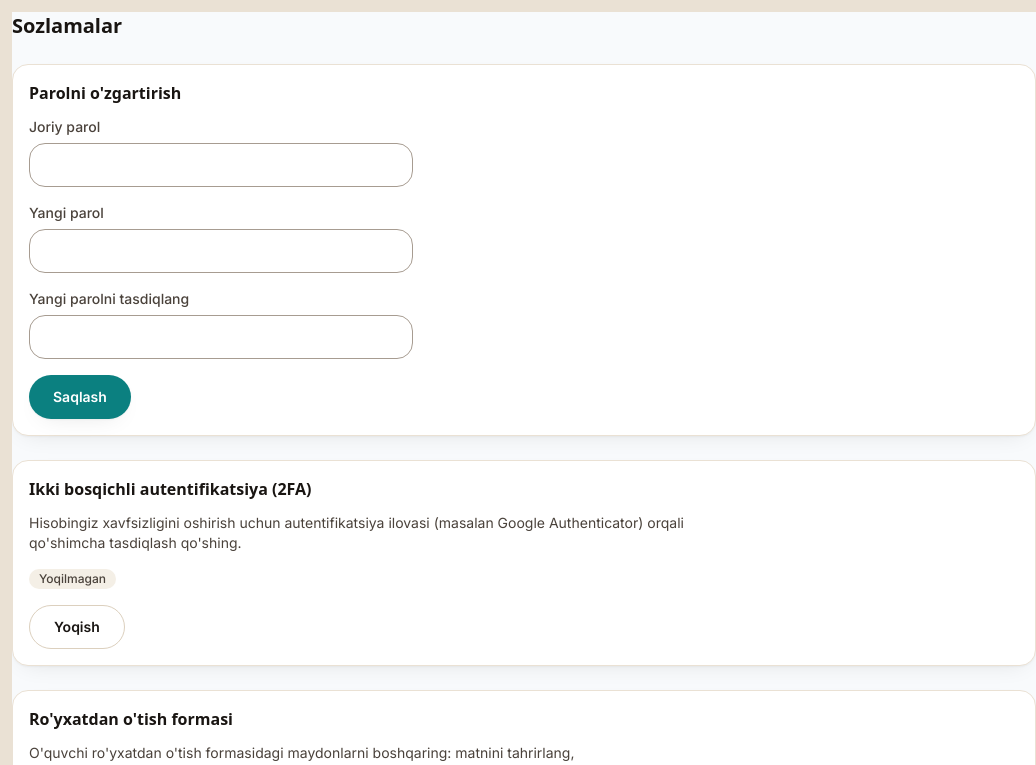
Test case: SettingsPage › parol mos kelmasa yuborishdan oldin lokal xato ko'rsatiladi
Expected: the text "Yoqilmagan" is shown, [29,569,116,589]
Type "EskiParol1" into the password field labelled "Joriy parol" at [221, 165], box [29,143,413,187]
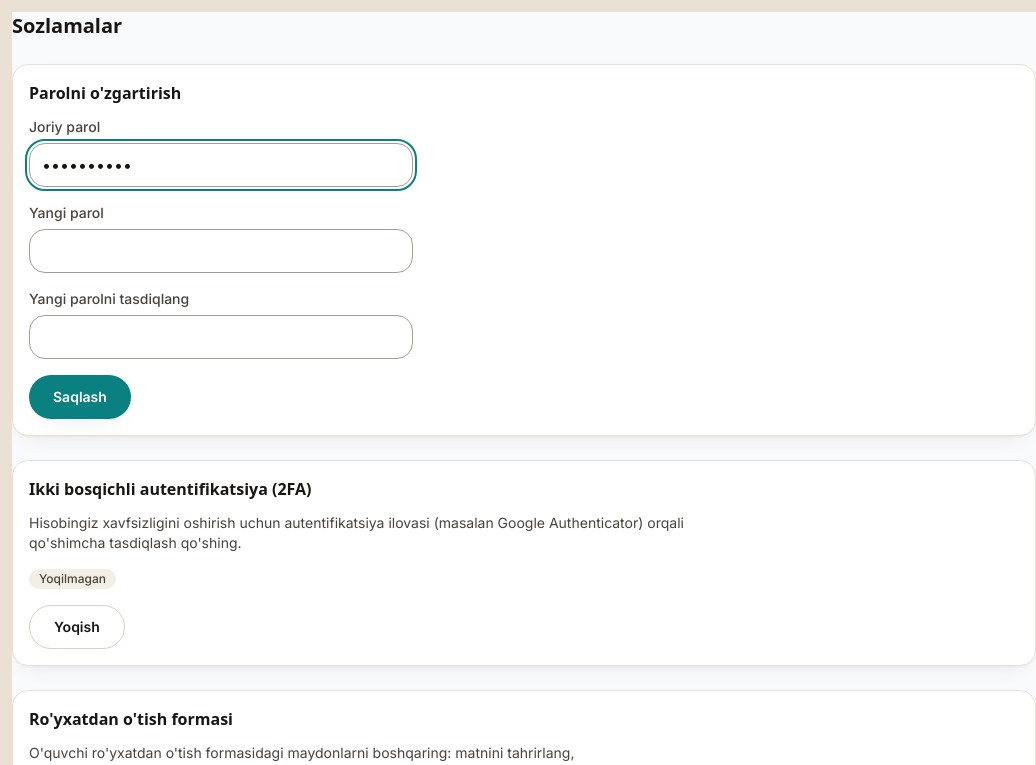
Type "YangiParol1" into the password field labelled "Yangi parol" at [221, 251], box [29,229,413,273]
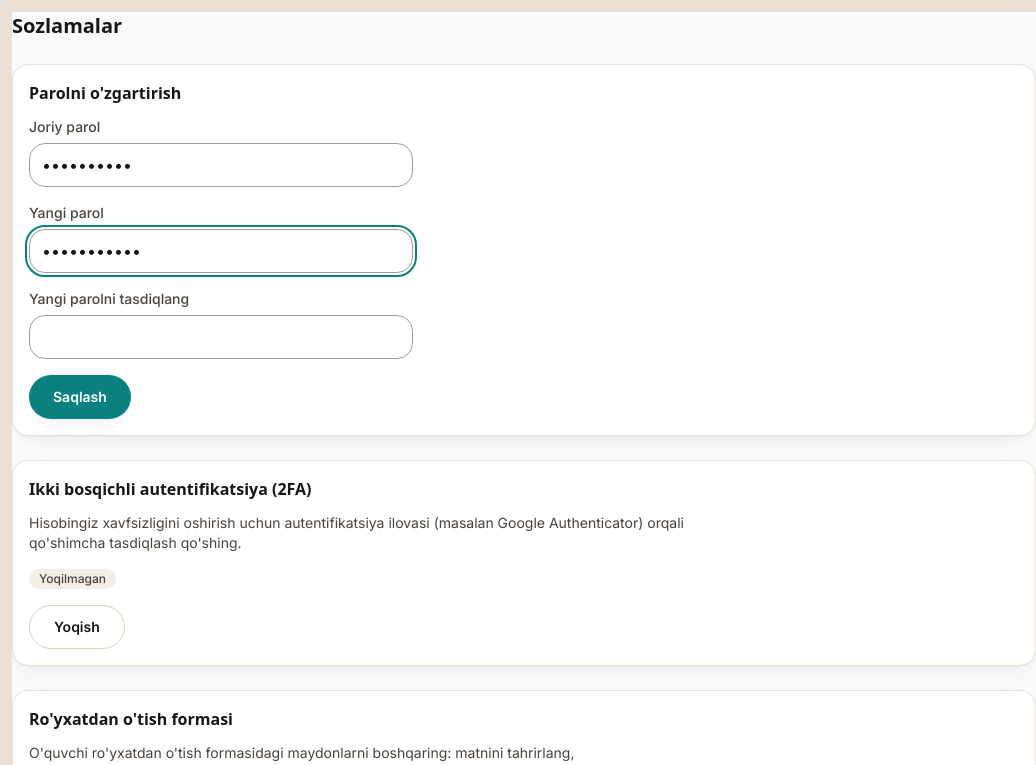
Type "Boshqasi1" into the password field labelled "Yangi parolni tasdiqlang" at [221, 337], box [29,315,413,359]
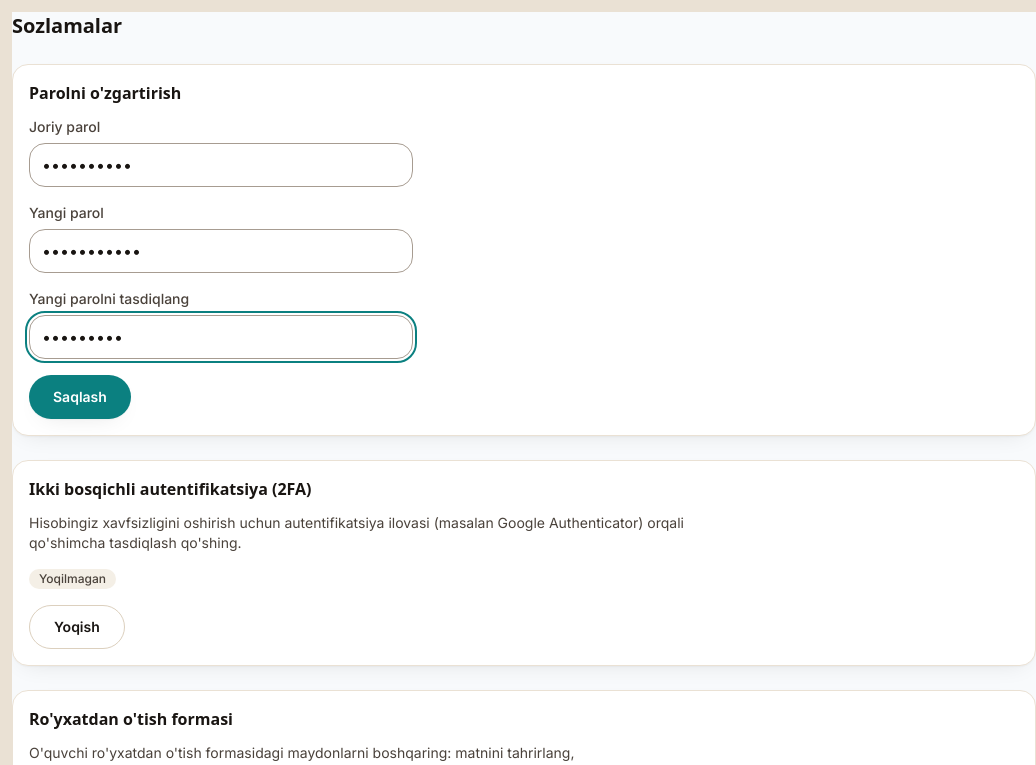
Click the button "Saqlash" at [80, 397], box [29,375,131,419]
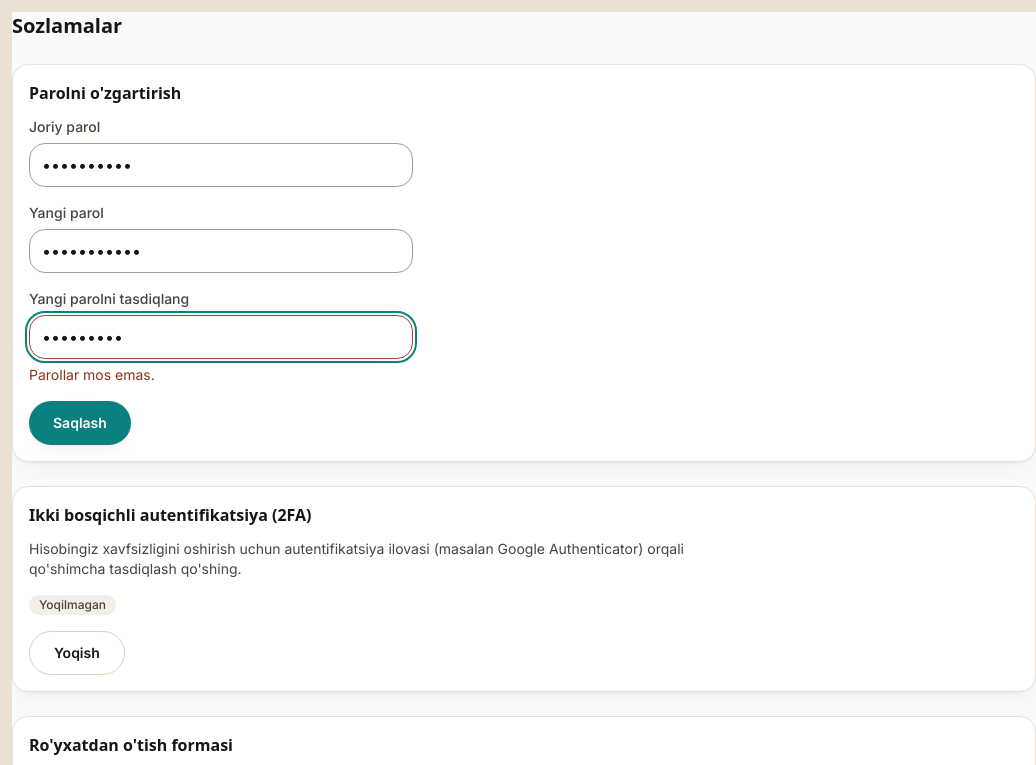
Expected: the text "Parollar mos emas." is shown, [29,366,155,383]
